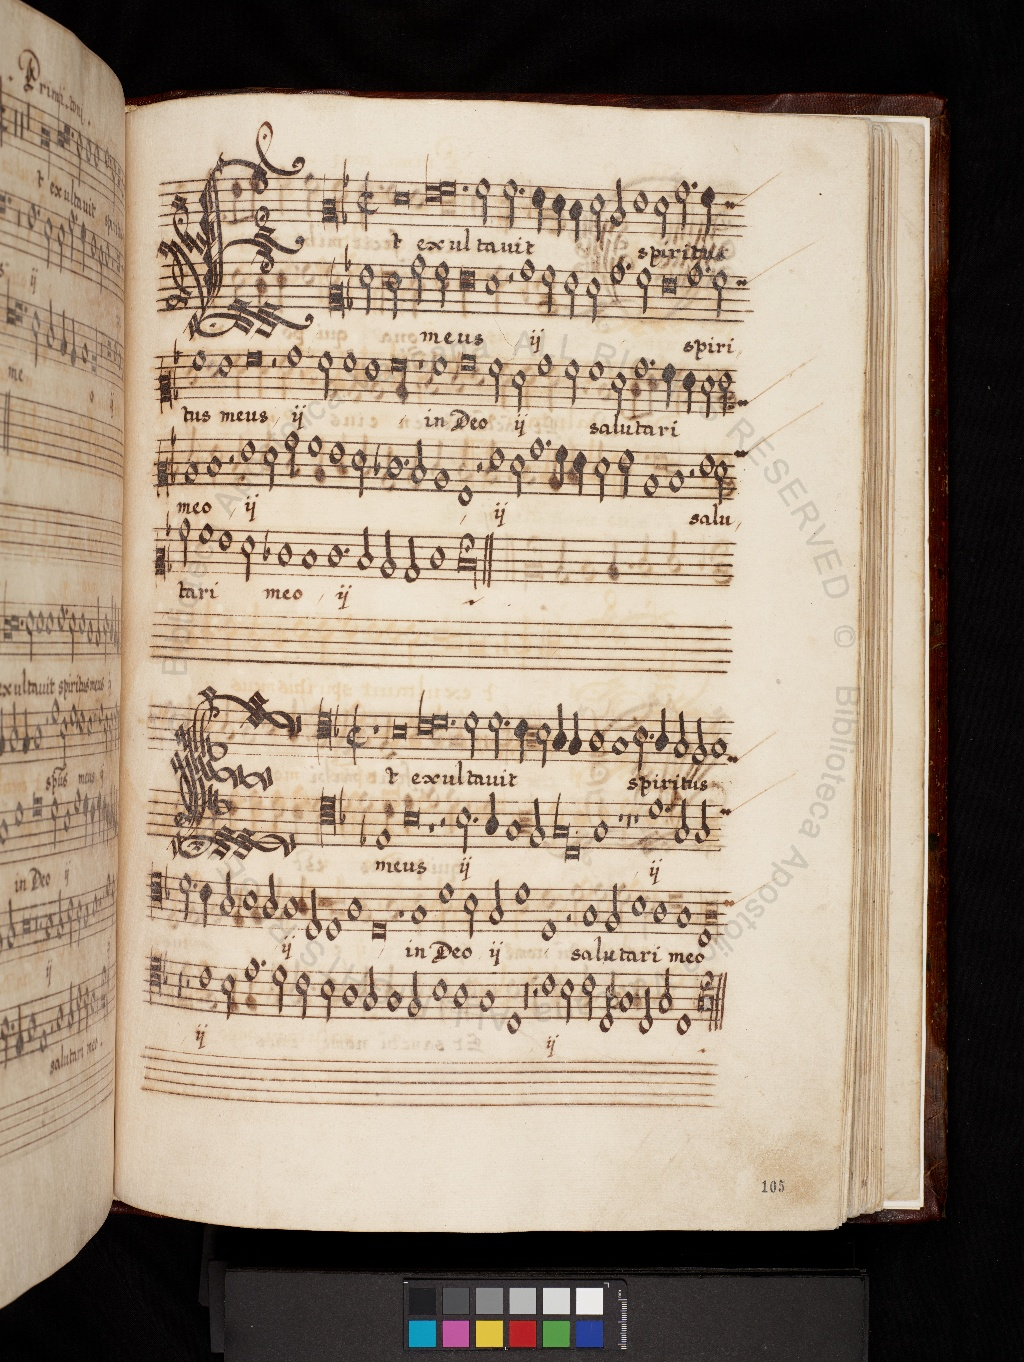breve rest: (623, 793, 634, 852)
breve_6: (399, 799, 424, 826)
c clef_5: (314, 780, 339, 847)
custos_4: (713, 791, 746, 831)
flat_10: (354, 808, 369, 851)
flat_6: (338, 783, 349, 831)
l1semibreve_8: (547, 783, 569, 854)
l2semibreve_12: (561, 829, 582, 861)
minim rest: (435, 794, 447, 857)
minim_6: (453, 799, 473, 860)
minim_8: (670, 792, 691, 851), (693, 793, 713, 850)
minim_9: (526, 792, 546, 854)
point: (466, 808, 482, 829), (657, 798, 673, 819)
semibreve rest: (424, 794, 437, 857), (613, 793, 624, 855), (631, 795, 642, 853)
semibreve_10: (373, 791, 395, 857)
semibreve_4: (643, 790, 665, 827)
semibreve_8: (589, 810, 613, 851), (501, 811, 522, 848)
semiminim_7: (482, 785, 501, 845)
